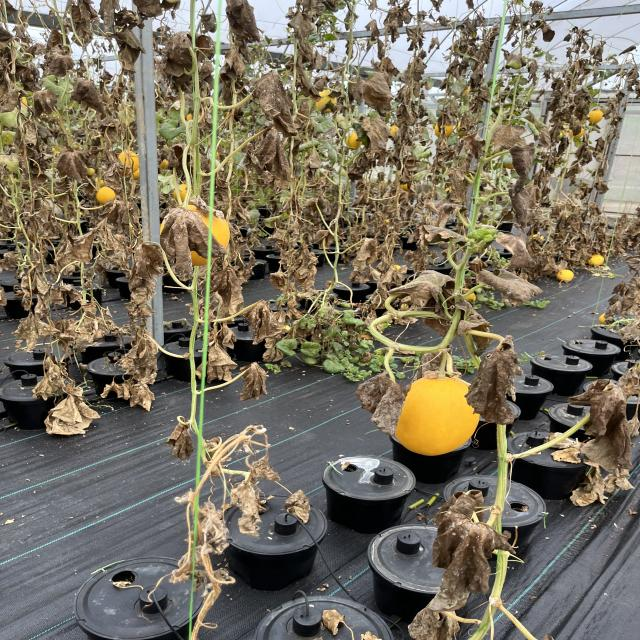bacterial wilt: (402, 499, 502, 640), (566, 381, 636, 476), (464, 348, 526, 426), (157, 208, 214, 271), (42, 390, 114, 436), (354, 374, 413, 430), (119, 249, 163, 311), (478, 266, 555, 298), (276, 247, 322, 298), (36, 354, 79, 405), (502, 165, 544, 217), (244, 133, 296, 175), (246, 69, 288, 119), (39, 40, 92, 76), (556, 215, 604, 254), (213, 272, 249, 322), (505, 124, 540, 172), (359, 115, 404, 152), (272, 1, 322, 32), (53, 144, 97, 178), (348, 241, 386, 280), (201, 504, 232, 550), (498, 233, 538, 268), (300, 22, 330, 67), (167, 428, 199, 470), (33, 285, 81, 313), (18, 316, 56, 351), (249, 302, 288, 336), (228, 6, 262, 42), (71, 78, 113, 107), (356, 71, 396, 100), (410, 272, 452, 298), (62, 318, 102, 345), (164, 32, 197, 64), (202, 345, 231, 381), (486, 126, 525, 152), (238, 485, 262, 527), (235, 368, 272, 395), (278, 215, 310, 246), (216, 48, 248, 76), (25, 256, 46, 296), (288, 490, 321, 515), (69, 2, 99, 28), (3, 74, 24, 108), (130, 337, 158, 361), (404, 27, 435, 48), (536, 25, 567, 45), (136, 1, 168, 18), (440, 97, 470, 115), (74, 235, 97, 258), (120, 13, 139, 37), (100, 0, 116, 27), (15, 25, 33, 47)
